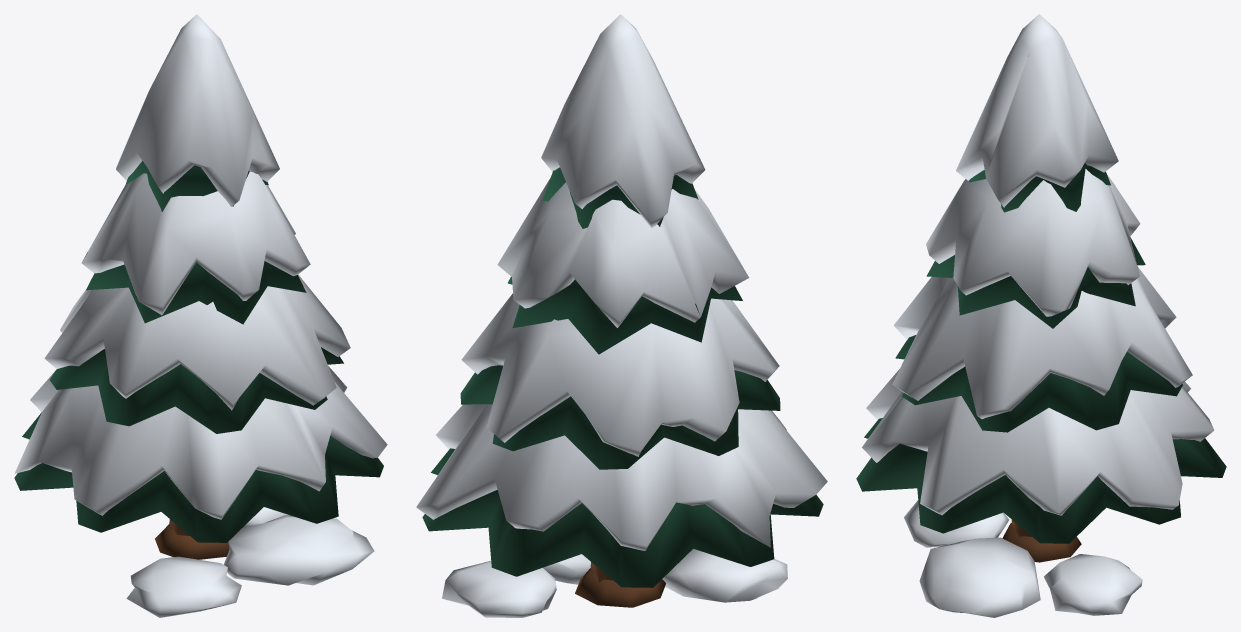
The model's file is tree_pine_snow.glb.
The picture shows the model from 3 angles, left to right: view 1: azimuth 30°, elevation 25°; view 2: azimuth 150°, elevation 25°; view 3: azimuth 270°, elevation 25°; orthographic projection. The views are drawn at different scales.
Visible parts, largest first — view 1: basesnow; view 2: basesnow; view 3: basesnow.
Part boxes in pixels (x1,y1,x2,y2): basesnow: [14, 14, 387, 617]; basesnow: [416, 14, 827, 617]; basesnow: [856, 14, 1226, 617].
Bounding box in the file's own units: 2.12 × 3.5 × 2.12.
Materials: 1 (1 with a texture image).
